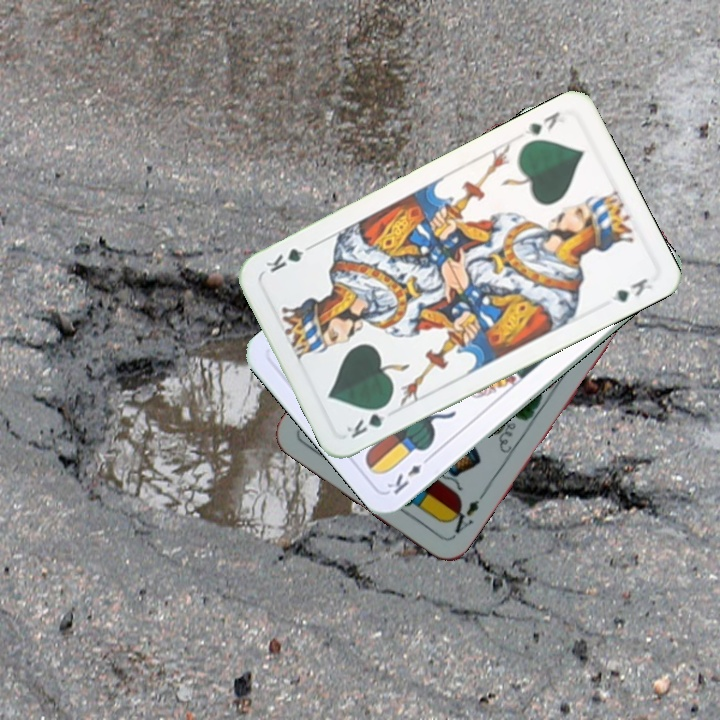EA: (443, 496, 482, 540)
EK: (382, 451, 435, 497)
GK: (343, 399, 393, 441), (521, 107, 563, 138)
